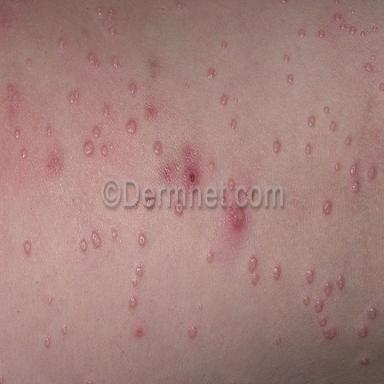Molluscum-Contagiosum: (91, 230, 101, 248), (248, 255, 258, 273), (126, 119, 137, 135), (367, 305, 377, 321), (367, 164, 377, 180), (324, 328, 337, 340), (187, 325, 197, 339), (272, 265, 281, 280), (84, 141, 93, 156), (129, 81, 138, 95), (23, 240, 31, 255), (207, 67, 217, 79), (154, 141, 162, 156), (206, 249, 214, 263), (336, 275, 344, 289), (323, 201, 331, 215), (358, 325, 367, 337), (129, 295, 137, 308), (315, 300, 323, 313), (273, 140, 281, 153), (80, 238, 87, 252), (306, 269, 313, 283), (324, 281, 331, 295), (251, 273, 259, 285), (93, 126, 101, 138), (308, 116, 316, 127), (45, 334, 51, 348), (136, 264, 143, 276), (228, 178, 235, 190), (59, 38, 66, 50), (139, 233, 145, 246), (305, 143, 312, 154), (101, 145, 108, 156), (109, 26, 116, 37), (319, 317, 327, 326), (365, 63, 373, 72), (111, 229, 118, 239), (303, 295, 310, 305), (230, 119, 237, 129), (208, 160, 215, 170), (112, 56, 119, 66), (330, 121, 336, 132), (287, 74, 293, 85), (103, 106, 109, 117), (132, 276, 138, 287), (361, 357, 369, 365), (47, 294, 53, 304), (350, 165, 356, 175), (221, 95, 227, 105), (14, 129, 20, 139), (318, 30, 325, 38), (176, 1, 183, 9), (352, 183, 358, 192), (345, 136, 351, 145), (299, 29, 305, 38), (21, 149, 27, 158), (97, 7, 103, 16), (379, 82, 384, 92), (47, 127, 52, 137), (350, 26, 356, 34), (335, 13, 341, 21), (283, 55, 289, 63), (62, 325, 67, 334), (69, 94, 74, 103), (335, 162, 340, 170), (26, 58, 31, 66), (222, 41, 227, 49), (109, 8, 114, 16), (276, 337, 281, 344), (324, 106, 329, 113), (185, 82, 190, 89), (75, 90, 79, 98), (372, 26, 377, 32), (341, 24, 346, 30), (198, 303, 203, 309), (234, 97, 238, 104), (334, 0, 339, 5), (361, 31, 365, 37), (351, 9, 355, 14)
